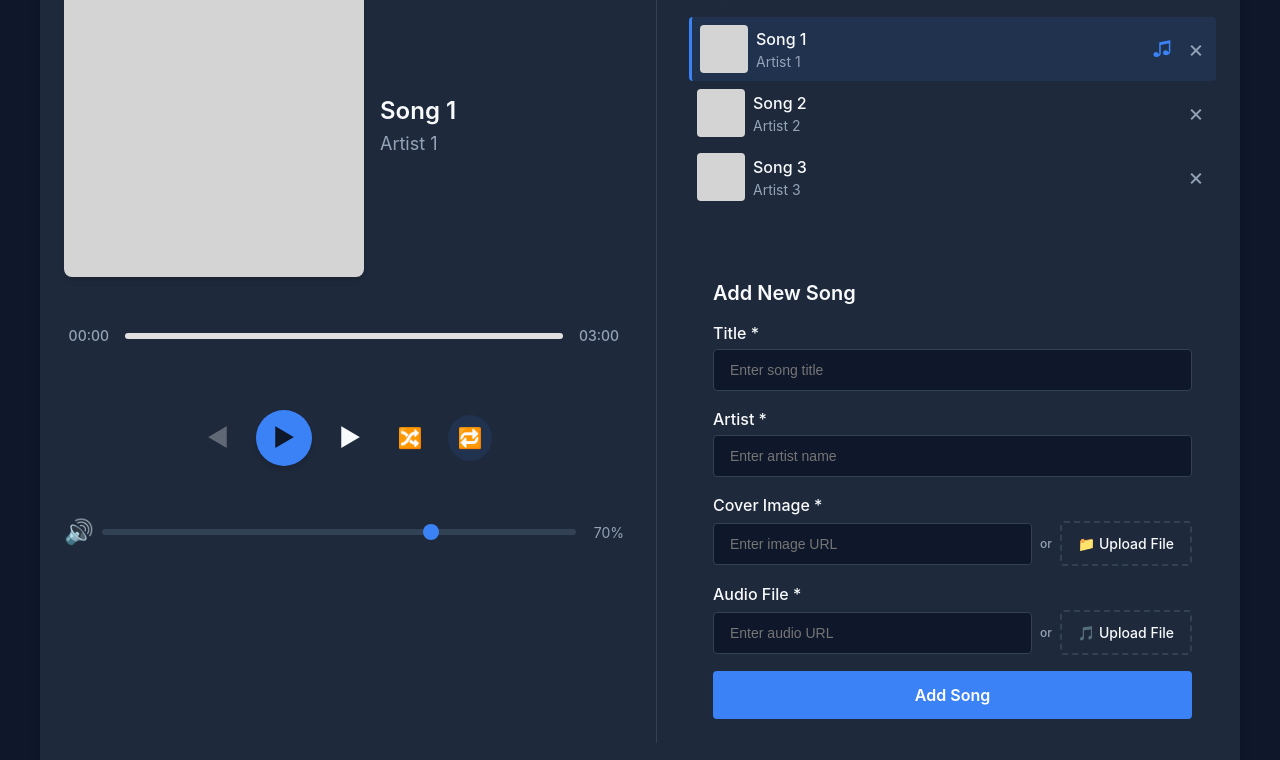
Test: Player Component › AddSongForm Integration › should handle form validation errors
(page scrolled)
# Submit empty form
Click the button "Add Song".
click(952, 695)  # box [713,671,1192,719]
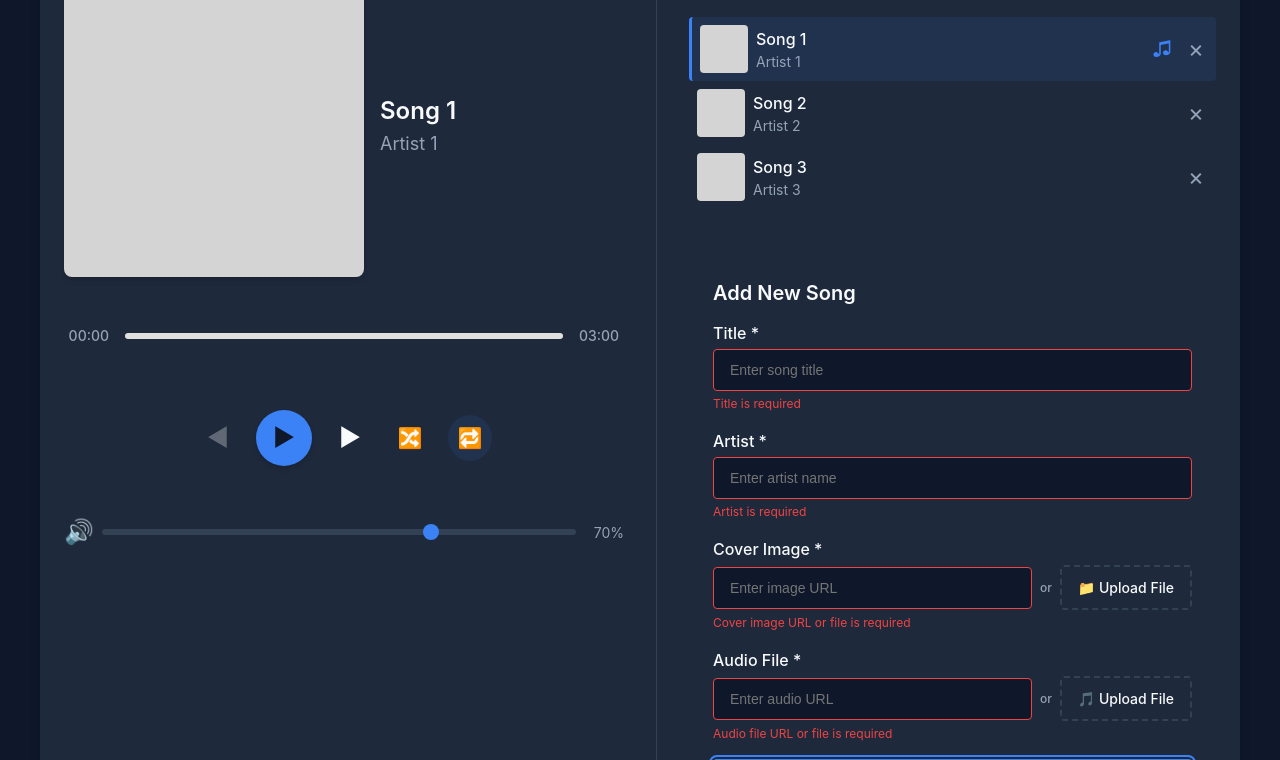
expect the text "Title is required" is shown: met, box [713,396,801,411]
